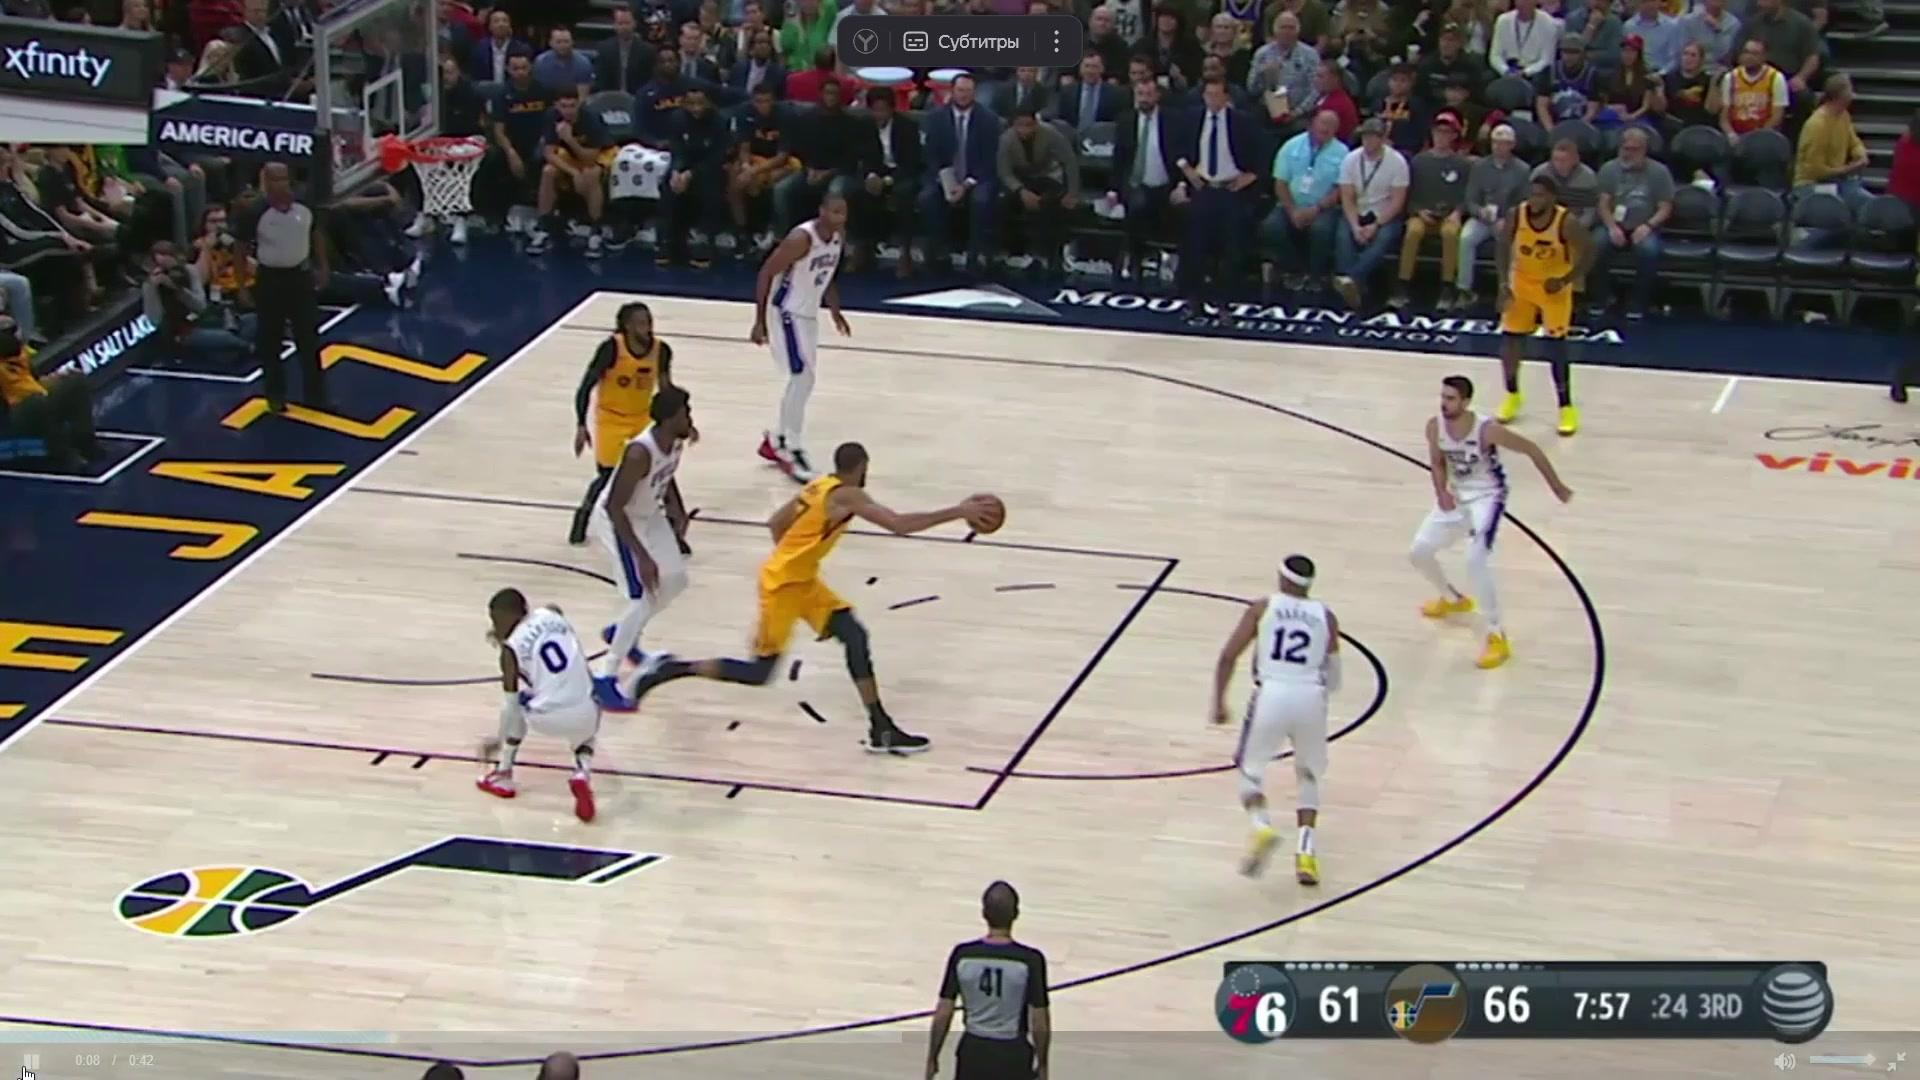foul: (444, 426, 957, 820)
